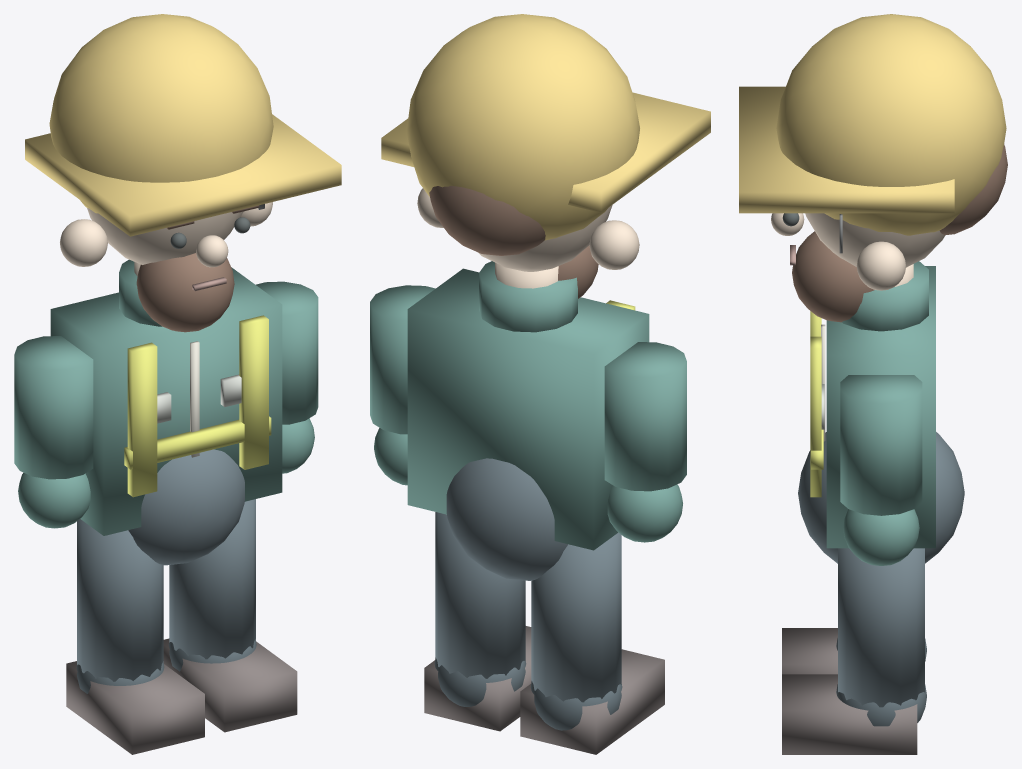
File: mercy_person_13.glb
The picture shows the model from 3 angles, left to right: view 1: azimuth 30°, elevation 25°; view 2: azimuth 150°, elevation 25°; view 3: azimuth 270°, elevation 25°; orthographic projection. The views are drawn at different scales.
Visible parts, largest first — view 1: SkinClothing_9, SkinClothing_0, Arm_Left, Leg_Left, SkinClothing_5, Leg_Right, SkinClothing_1, Boot_Left, Boot_Right, Arm_Right, SkinClothing_2, SkinClothing_7 (+2 smaller); view 2: SkinClothing_0, SkinClothing_9, Arm_Left, Leg_Left, Leg_Right, SkinClothing_1, Arm_Right, SkinClothing_7, Boot_Left, SkinClothing_2, Boot_Right; view 3: SkinClothing_9, Arm_Right, SkinClothing_0, Leg_Right, Boot_Right, SkinClothing_7, SkinClothing_2, SkinClothing_1, Boot_Left, SkinClothing_5.
Part boxes in pixels (x1,y1,x2,y2): SkinClothing_9: (25,14,341,236); SkinClothing_0: (50,259,282,535); Arm_Left: (14,336,93,528); Leg_Left: (76,519,164,693); SkinClothing_5: (124,315,271,497); Leg_Right: (168,499,256,671); SkinClothing_1: (128,449,244,565); Boot_Left: (66,661,204,754); Boot_Right: (163,638,297,732); Arm_Right: (256,281,318,473); SkinClothing_2: (60,202,272,276); SkinClothing_7: (136,205,259,332); SkinClothing_0: (407,261,649,550); SkinClothing_9: (381,14,710,240); Arm_Left: (604,342,686,542); Leg_Left: (530,532,622,730); Leg_Right: (434,512,526,706); SkinClothing_1: (446,458,567,580); Arm_Right: (370,285,435,485); SkinClothing_7: (429,186,598,298); Boot_Left: (520,649,664,754); SkinClothing_2: (417,188,639,288); Boot_Right: (424,626,531,731); SkinClothing_9: (739,14,1006,235); Arm_Right: (840,375,922,565); SkinClothing_0: (826,261,935,548); Leg_Right: (836,548,926,726); Boot_Right: (782,674,917,754); SkinClothing_7: (792,144,1007,322); SkinClothing_2: (771,213,945,290); SkinClothing_1: (798,432,964,563); Boot_Left: (782,628,837,674); SkinClothing_5: (810,311,823,497).
Bounding box in the file's own units: 1.27 × 2.78 × 0.9829.
